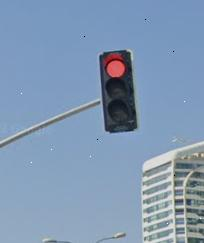redlight: (96, 49, 137, 128)
